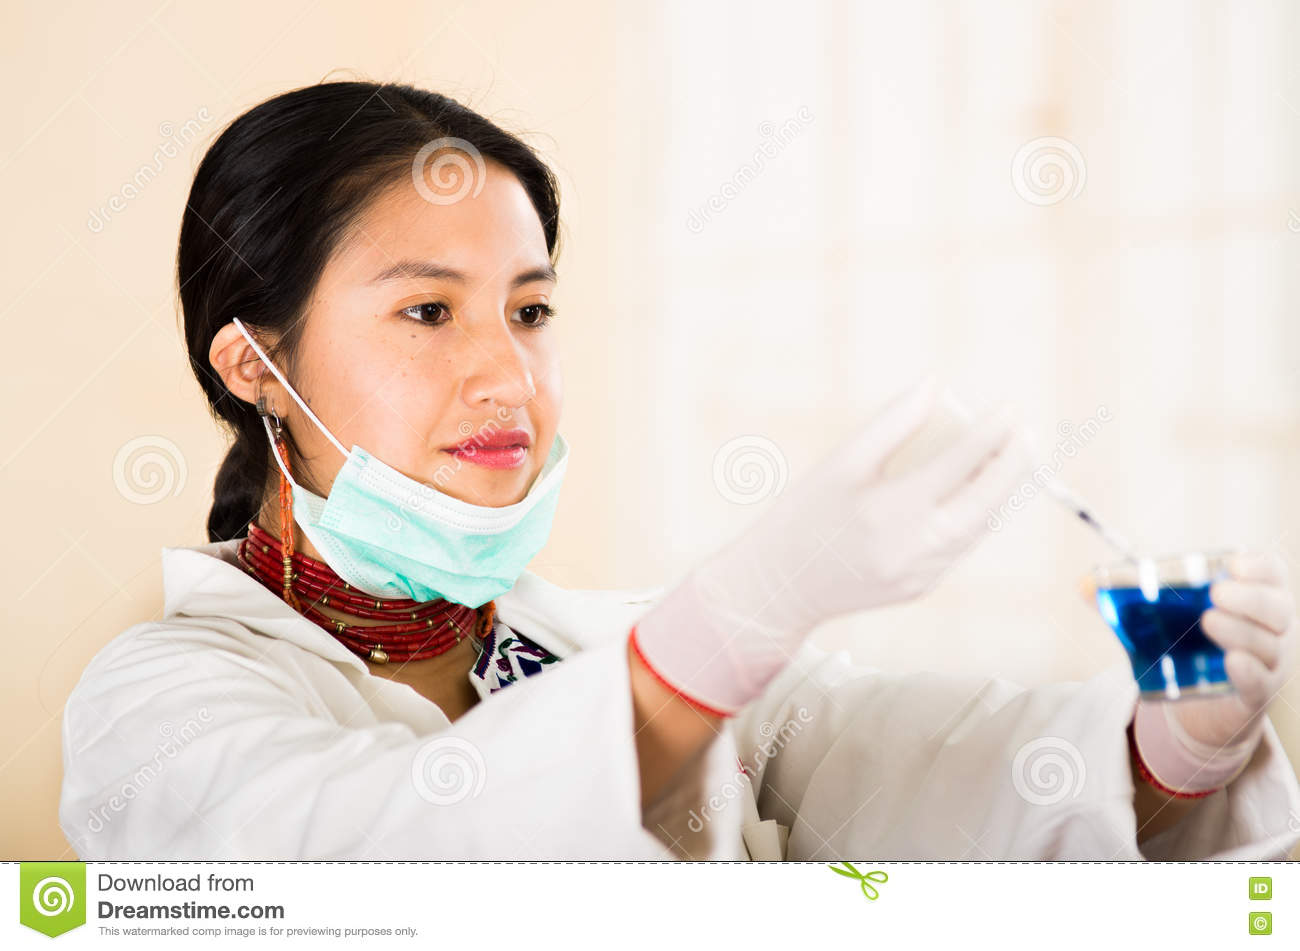mask_weared_incorrect: (349, 250, 576, 578)
